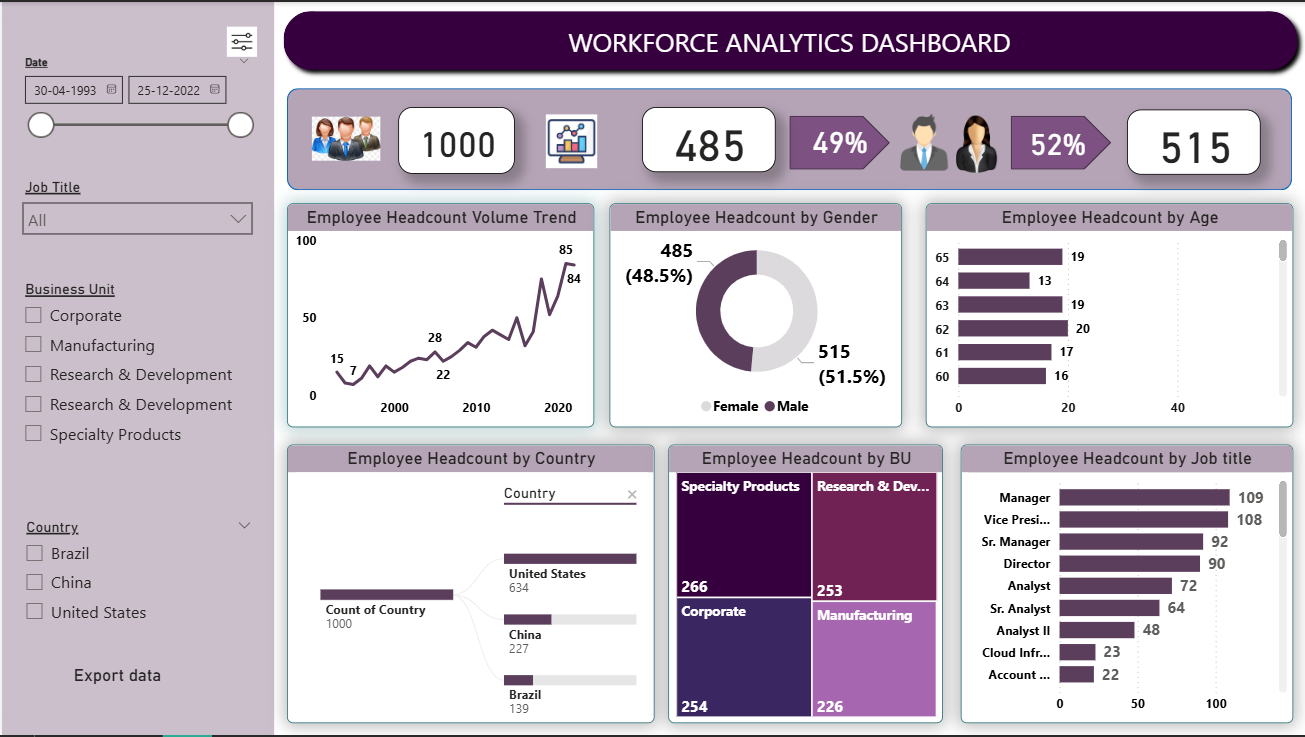

Layout of this report page (visuals, bound fields, positions):
{"tool":"powerbi","page":{"name":"HR analysis","canvas":[1280,720],"ordinal":0},"visuals":[{"type":"shape","box":[267.6,0,1012.7,75.5],"z":0},{"type":"shape","box":[0,0,267.1,720],"z":1000},{"type":"shape","box":[279.9,85.1,986.6,100.2],"z":2000},{"type":"card","fields":{"Values":["Employee Data.Total_Count"]},"box":[388.6,102.9,114.3,65.7],"z":3000},{"type":"lineChart","title":"Employee Headcount Volume Trend","fields":{"Category":["Employee Data.Hire Date.Variation.Date Hierarchy.Year"],"Y":["CountNonNull(Employee Data.Employee ID)"]},"box":[279.8,197.5,301.8,219.6],"z":4000},{"type":"donutChart","title":"Employee Headcount by Gender","fields":{"Y":["CountNonNull(Employee Data.Employee ID)"],"Category":["Employee Data.Gender"]},"box":[596.3,197.5,287.1,219.6],"z":5000},{"type":"clusteredBarChart","title":"Employee Headcount by Age","fields":{"Category":["Employee Data.Age"],"Y":["CountNonNull(Employee Data.Employee ID)"]},"box":[906.8,197.5,360.7,219.6],"z":6000},{"type":"decompositionTreeVisual","title":"Employee Headcount by Country","fields":{"Analyze":["CountNonNull(Employee Data.Country)"],"ExplainBy":["Employee Data.Country"]},"box":[279.8,434.4,360.7,273.6],"z":7000},{"type":"treemap","title":"Employee Headcount by BU","fields":{"Group":["Employee Data.Business Unit"],"Values":["CountNonNull(Employee Data.Employee ID)"]},"box":[654,434.4,269.9,273.6],"z":8000},{"type":"clusteredBarChart","title":"Employee Headcount by Job title","fields":{"Category":["Employee Data.Job Title"],"Y":["CountNonNull(Employee Data.Employee ID)"]},"box":[941.1,434.4,326.4,273.6],"z":9000},{"type":"image","box":[924.3,107.1,65.7,65.7],"z":10000},{"type":"image","box":[871.4,101.4,68.6,71.4],"z":11000},{"type":"card","fields":{"Values":["Employee Data.Total_female_count"]},"box":[1104.3,105.5,131.3,63.8],"z":12000},{"type":"shape","box":[772.9,111.4,98.6,52.9],"z":13000},{"type":"shape","box":[990,111.4,98.6,52.9],"z":14000},{"type":"card","fields":{"Values":["Employee Data.Male%"]},"box":[762,105.5,121.5,62.6],"z":15000},{"type":"card","fields":{"Values":["Employee Data.Female%"]},"box":[975.5,106.7,121.5,62.6],"z":16000},{"type":"card","fields":{"Values":["Employee Data.Total_male_count"]},"box":[628.6,102.9,131.4,64.3],"z":17000},{"type":"image","box":[300,98.6,77.1,71.4],"z":18000},{"type":"image","box":[520,105.7,77.1,62.9],"z":19000},{"type":"shape","box":[279.8,18.4,986.5,40.5],"z":20000},{"type":"slicer","fields":{"Values":["Employee Data.Business Unit"]},"box":[9.6,302.7,246,212.3],"z":21000},{"type":"slicer","fields":{"Values":["Employee Data.Country"]},"box":[10.9,487.2,246,127.8],"z":22000},{"type":"slicer","fields":{"Values":["Employee Data.Job Title"]},"box":[9.6,209.8,246,79.6],"z":23000},{"type":"slicer","fields":{"Values":["Employee Data.Hire Date"]},"box":[9.6,85.6,246,100.1],"z":24000},{"type":"image","box":[215.9,9.6,39.8,57.9],"z":26000},{"type":"tableEx","title":"Export data","fields":{"Values":["Sum(Employee Data.Age)","Employee Data.Business Unit","Sum(Employee Data.Bonus %)","Employee Data.City","Sum(Employee Data.Annual Salary)","Employee Data.Country","Employee Data.Department","Employee Data.Employee ID","Employee Data.Ethnicity","Employee Data.Female%","Employee Data.Full Name","Employee Data.Gender"]},"box":[45.8,650.1,136.3,25.3],"z":27000}]}

Visuals, with their boxes in screenshot pixels (x1, y1, x2, y2), scaled from the page's 1280x720 canvas onto the 1305x737 screenshot:
shape: box=[273, 0, 1304, 77]
shape: box=[0, 0, 272, 736]
shape: box=[285, 87, 1291, 190]
card - Employee Data.Total_Count: box=[396, 105, 513, 173]
"Employee Headcount Volume Trend" lineChart: box=[285, 202, 593, 427]
"Employee Headcount by Gender" donutChart: box=[608, 202, 901, 427]
"Employee Headcount by Age" clusteredBarChart: box=[925, 202, 1292, 427]
"Employee Headcount by Country" decompositionTreeVisual: box=[285, 445, 653, 725]
"Employee Headcount by BU" treemap: box=[667, 445, 942, 725]
"Employee Headcount by Job title" clusteredBarChart: box=[959, 445, 1292, 725]
image: box=[942, 110, 1009, 177]
image: box=[888, 104, 958, 177]
card - Employee Data.Total_female_count: box=[1126, 108, 1260, 173]
shape: box=[788, 114, 889, 168]
shape: box=[1009, 114, 1110, 168]
card - Employee Data.Male%: box=[777, 108, 901, 172]
card - Employee Data.Female%: box=[995, 109, 1118, 173]
card - Employee Data.Total_male_count: box=[641, 105, 775, 171]
image: box=[306, 101, 384, 174]
image: box=[530, 108, 609, 173]
shape: box=[285, 19, 1291, 60]
slicer - Employee Data.Business Unit: box=[10, 310, 261, 527]
slicer - Employee Data.Country: box=[11, 499, 262, 630]
slicer - Employee Data.Job Title: box=[10, 215, 261, 296]
slicer - Employee Data.Hire Date: box=[10, 88, 261, 190]
image: box=[220, 10, 261, 69]
"Export data" tableEx: box=[47, 665, 186, 691]
